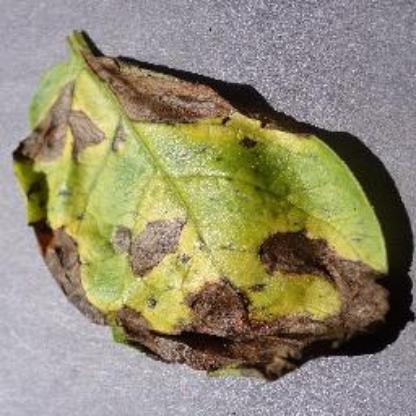Early-Blight: (10, 25, 396, 381)
